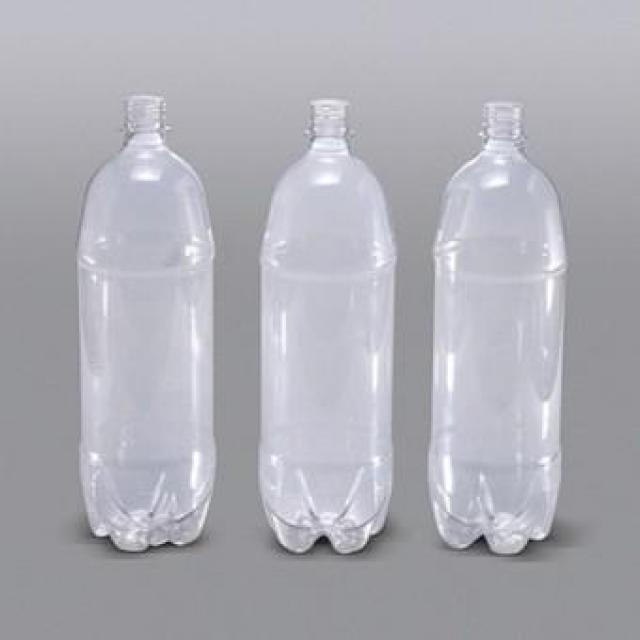bottle: (67, 79, 229, 566), (247, 83, 407, 575), (426, 84, 580, 569)
